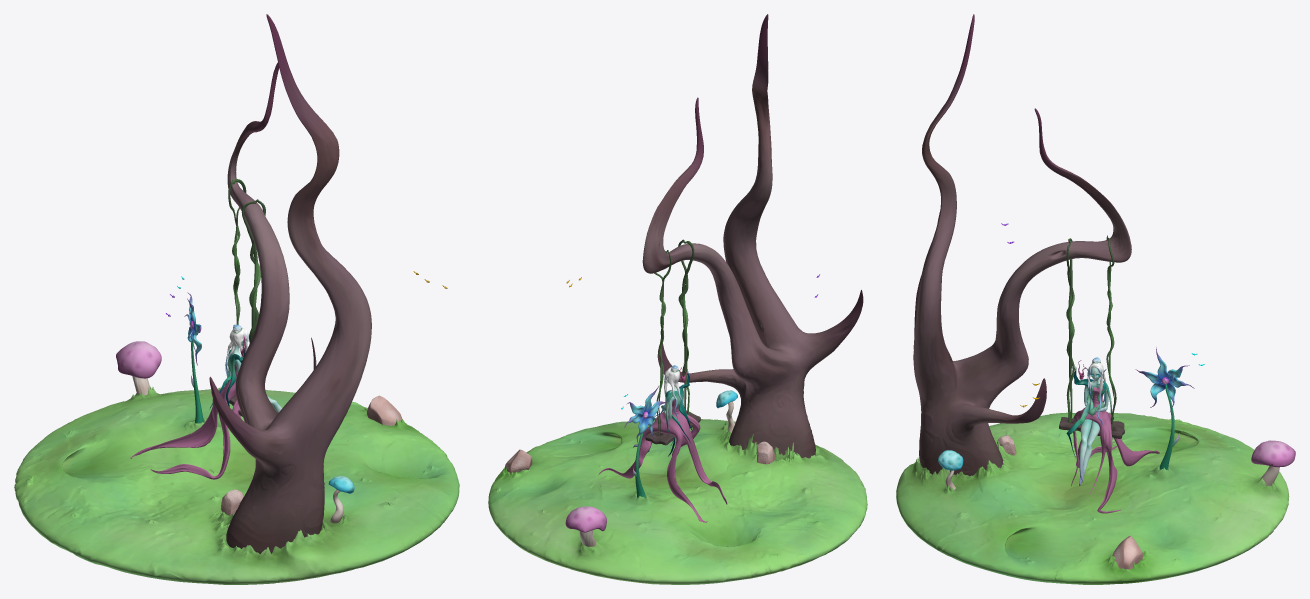
Rendered from fantasy-elf-scene.glb.
3 renders of one model, left to right at view 1: azimuth 30°, elevation 25°; view 2: azimuth 150°, elevation 25°; view 3: azimuth 270°, elevation 25°, orthographic. The views are drawn at different scales.
Parts seen in each view (by area): view 1: ScenePart_00, ScenePart_11, Elf, ScenePart_08, ScenePart_13, ScenePart_05, ScenePart_12; view 2: ScenePart_00, ScenePart_11, Elf, ScenePart_08, ScenePart_13, ScenePart_04, ScenePart_12; view 3: ScenePart_00, ScenePart_11, Elf, ScenePart_08, ScenePart_04, ScenePart_13, ScenePart_05, ScenePart_12.
Boxes of the visible parts, x1=… form: ScenePart_00: x1=14, y1=386, x2=459, y2=584; ScenePart_11: x1=209, y1=14, x2=371, y2=553; Elf: x1=130, y1=324, x2=281, y2=479; ScenePart_08: x1=116, y1=341, x2=161, y2=378; ScenePart_13: x1=241, y1=199, x2=265, y2=343; ScenePart_05: x1=366, y1=395, x2=402, y2=425; ScenePart_12: x1=228, y1=178, x2=246, y2=324; ScenePart_00: x1=488, y1=419, x2=867, y2=584; ScenePart_11: x1=642, y1=14, x2=863, y2=457; Elf: x1=598, y1=363, x2=727, y2=522; ScenePart_08: x1=565, y1=506, x2=606, y2=532; ScenePart_13: x1=678, y1=239, x2=694, y2=414; ScenePart_04: x1=624, y1=386, x2=668, y2=442; ScenePart_12: x1=654, y1=250, x2=671, y2=435; ScenePart_00: x1=896, y1=412, x2=1289, y2=584; ScenePart_11: x1=913, y1=14, x2=1131, y2=475; Elf: x1=1066, y1=357, x2=1159, y2=513; ScenePart_08: x1=1251, y1=440, x2=1295, y2=467; ScenePart_04: x1=1135, y1=347, x2=1194, y2=411; ScenePart_13: x1=1066, y1=238, x2=1074, y2=422; ScenePart_05: x1=1112, y1=535, x2=1142, y2=569; ScenePart_12: x1=1106, y1=235, x2=1116, y2=430.
Bounding box in the file's own units: 2.44 × 3.41 × 2.49.
Materials: 18 (18 with a texture image).
